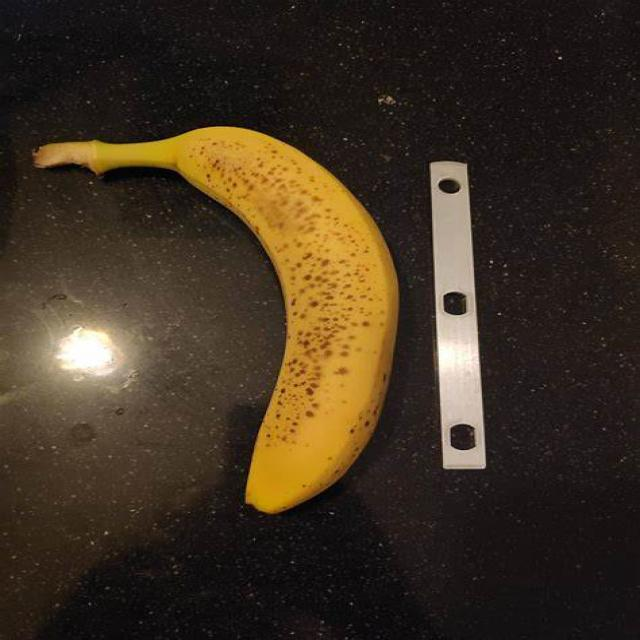Banana: (26, 128, 399, 516)
